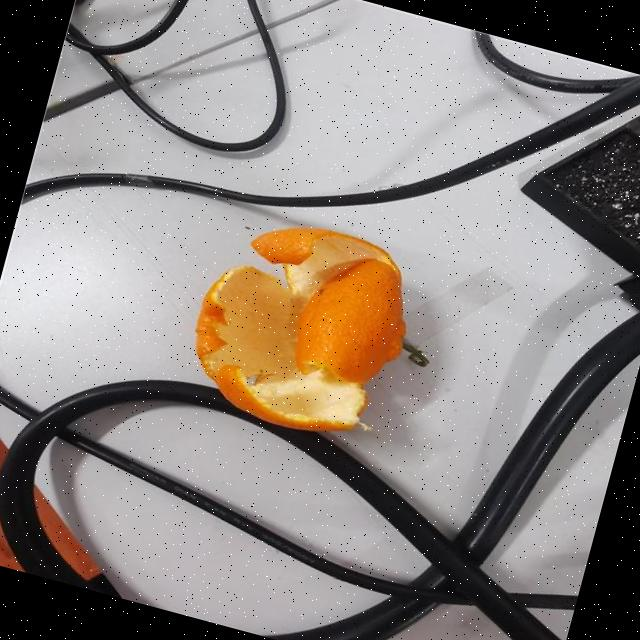orange-peel: (174, 200, 430, 452)
